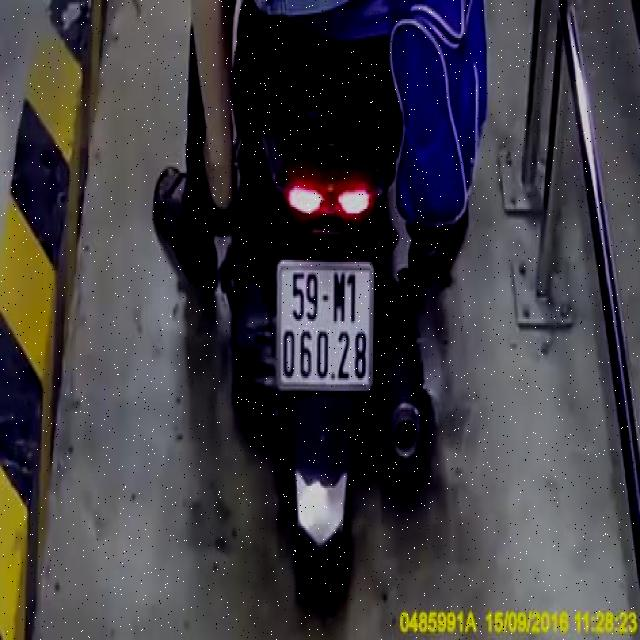0: (315, 325, 330, 380), (282, 326, 296, 379)
1: (347, 273, 358, 325)
2: (336, 330, 352, 383)
5: (290, 269, 304, 323)
6: (297, 326, 314, 382)
8: (354, 329, 368, 379)
9: (305, 272, 319, 322)
M: (332, 270, 348, 330)
